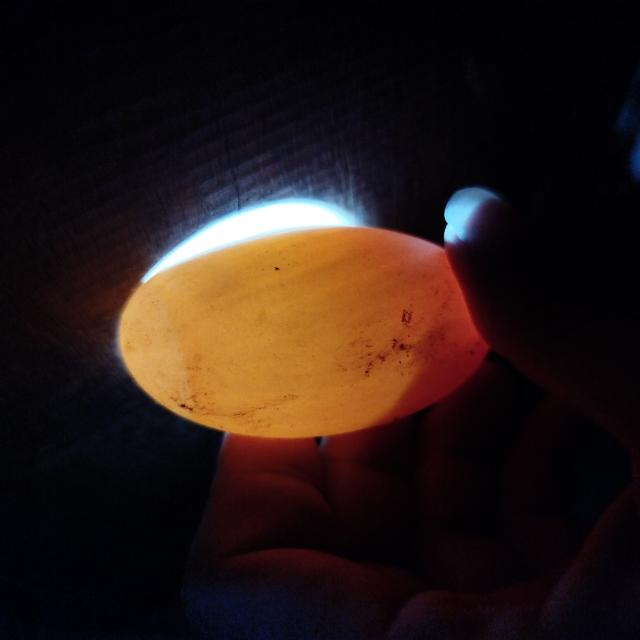Camara de Ar: (119, 284, 193, 421)
